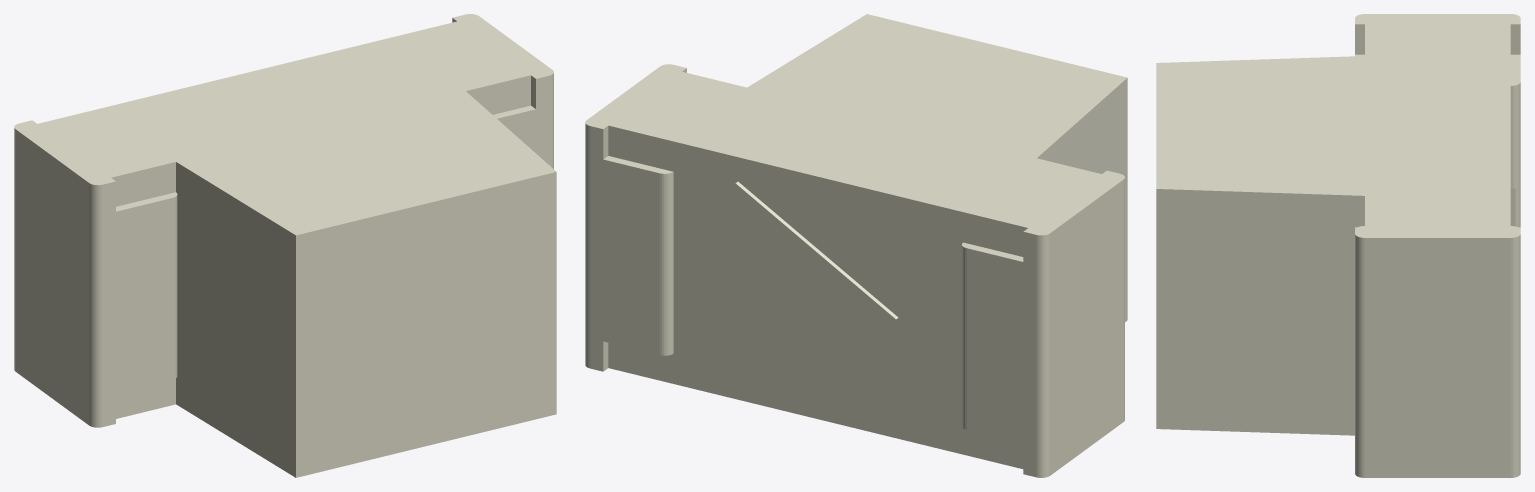
File: led_0603.glb
The picture shows the model from 3 angles, left to right: view 1: azimuth 30°, elevation 25°; view 2: azimuth 150°, elevation 25°; view 3: azimuth 270°, elevation 25°; orthographic projection.
Visible parts, largest first — view 1: LED_0603_1608Metric; view 2: LED_0603_1608Metric; view 3: LED_0603_1608Metric.
Boxes of the visible parts, box(x1,y1,x2,y2) form: LED_0603_1608Metric: box(14, 14, 556, 477); LED_0603_1608Metric: box(585, 14, 1127, 477); LED_0603_1608Metric: box(1156, 14, 1520, 477).
Bounding box in the file's own units: 0.0016 × 0.0008 × 0.0011.
